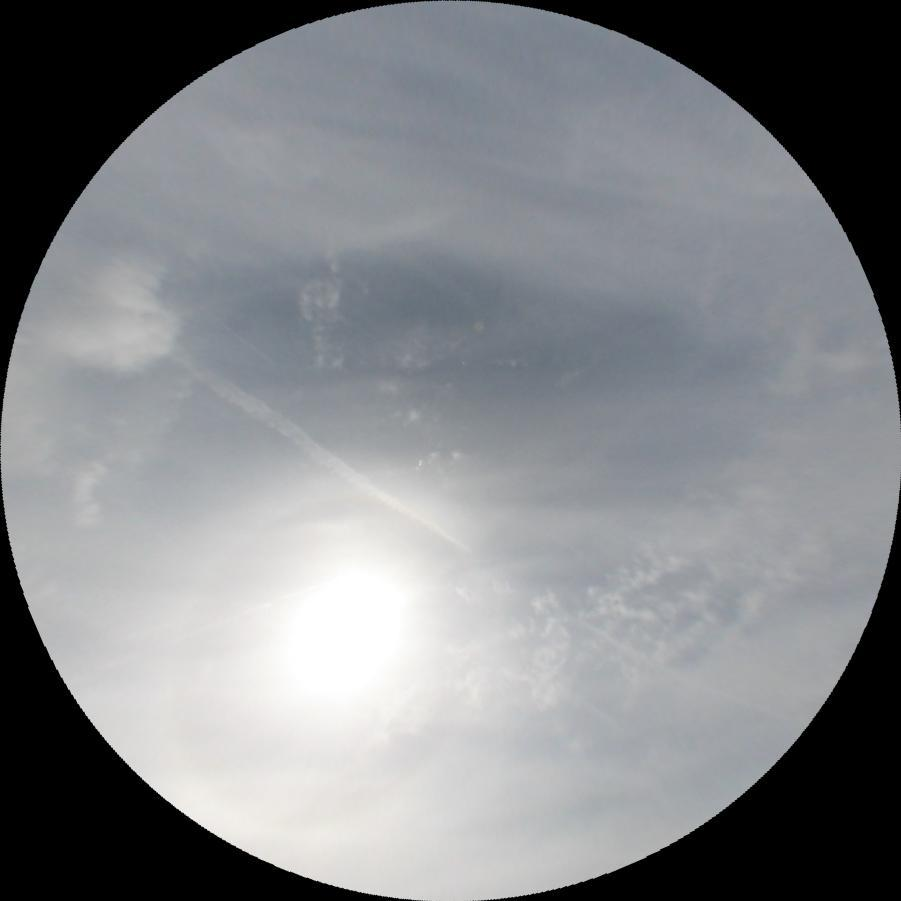contrail veryold: (163, 340, 750, 728)
contrail young: (206, 313, 277, 368)
parasite: (64, 577, 326, 686)
sun: (281, 563, 405, 702)
